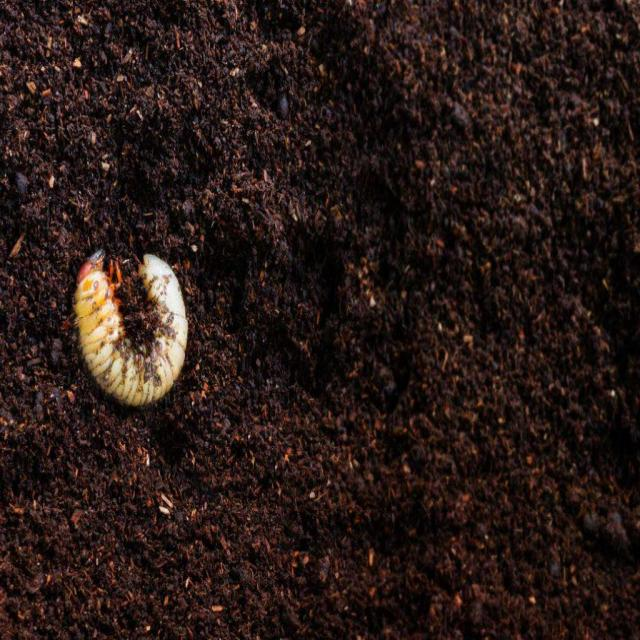Grub-Adult-: (61, 229, 199, 422)
